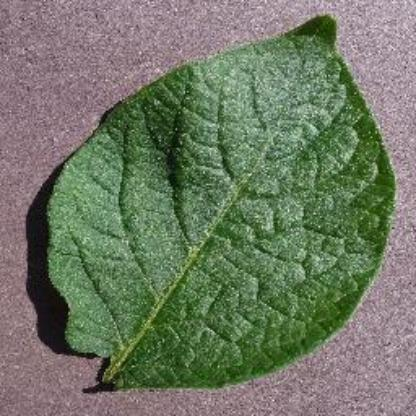Healthy-plant: (34, 10, 398, 396)
